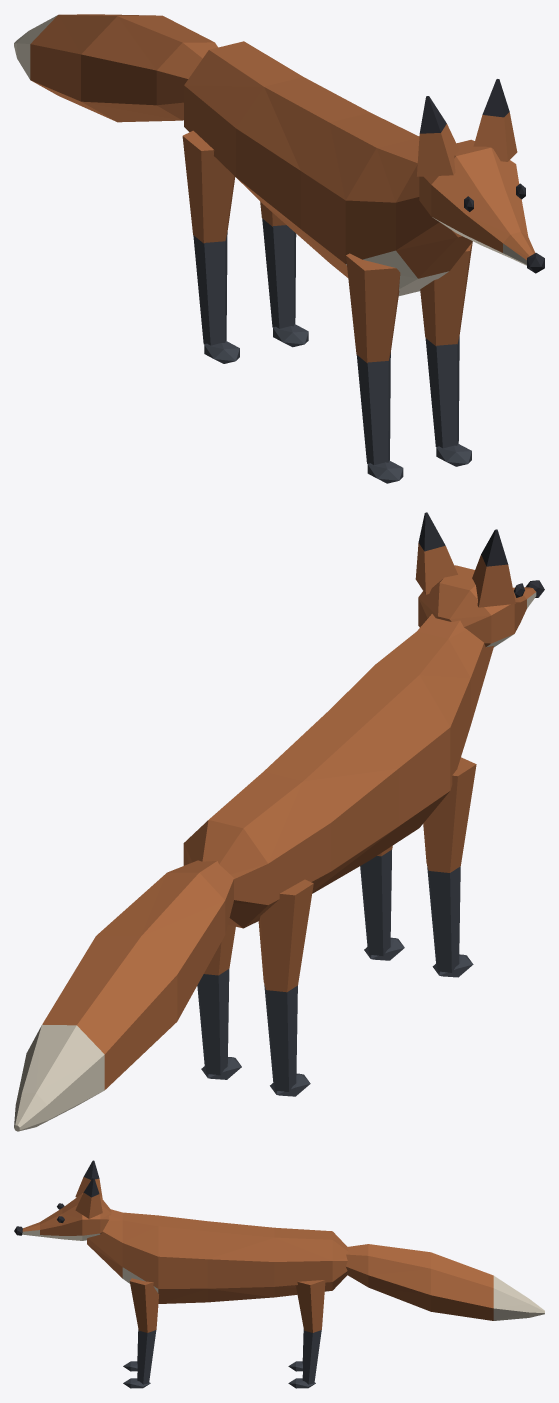
File: Fox.fbx
3 renders of one model, top to bottom at view 1: azimuth 30°, elevation 25°; view 2: azimuth 150°, elevation 25°; view 3: azimuth 270°, elevation 25°, orthographic. The views are drawn at different scales.
Visible parts, largest first — view 1: Fox_Body, Fox_Tail, Fox_Head, Fox_Leg_1_Mesh, Fox_Leg_3_Mesh, Fox_Leg_0_Mesh, Fox_Leg_2_Mesh; view 2: Fox_Body, Fox_Tail, Fox_Head, Fox_Leg_3_Mesh, Fox_Leg_1_Mesh, Fox_Leg_2_Mesh, Fox_Leg_0_Mesh; view 3: Fox_Body, Fox_Tail, Fox_Head, Fox_Leg_2_Mesh, Fox_Leg_0_Mesh.
Boxes of the visible parts, x1,y1,x2,y2 form: Fox_Body: (184, 41, 472, 295); Fox_Tail: (14, 14, 217, 122); Fox_Head: (417, 79, 544, 273); Fox_Leg_1_Mesh: (346, 253, 403, 483); Fox_Leg_3_Mesh: (182, 130, 239, 363); Fox_Leg_0_Mesh: (420, 242, 472, 466); Fox_Leg_2_Mesh: (260, 201, 308, 347); Fox_Body: (183, 614, 493, 928); Fox_Tail: (14, 860, 233, 1131); Fox_Head: (415, 512, 544, 647); Fox_Leg_3_Mesh: (258, 879, 313, 1096); Fox_Leg_1_Mesh: (423, 757, 476, 977); Fox_Leg_2_Mesh: (197, 925, 241, 1079); Fox_Leg_0_Mesh: (360, 846, 404, 960); Fox_Body: (87, 1209, 348, 1303); Fox_Tail: (345, 1244, 544, 1320); Fox_Head: (14, 1160, 111, 1240); Fox_Leg_2_Mesh: (288, 1280, 325, 1388); Fox_Leg_0_Mesh: (123, 1278, 158, 1388).
Size of the model in its own units: 0.1551 by 1.19 by 0.5165.
